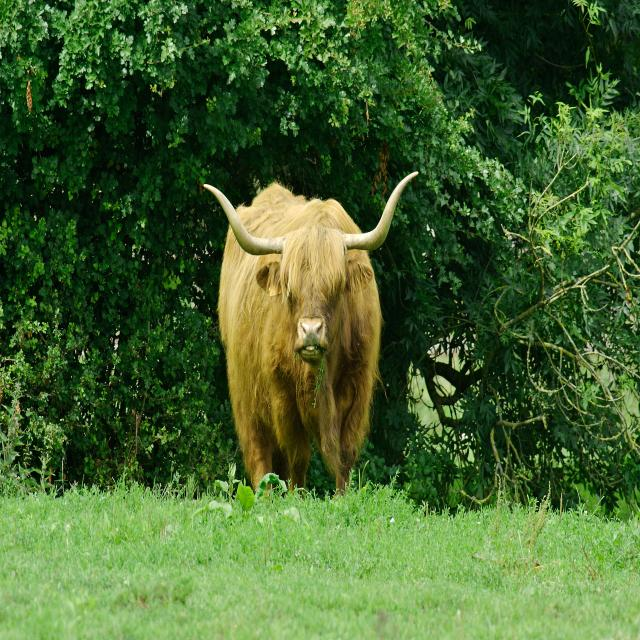cow: (204, 172, 418, 489)
